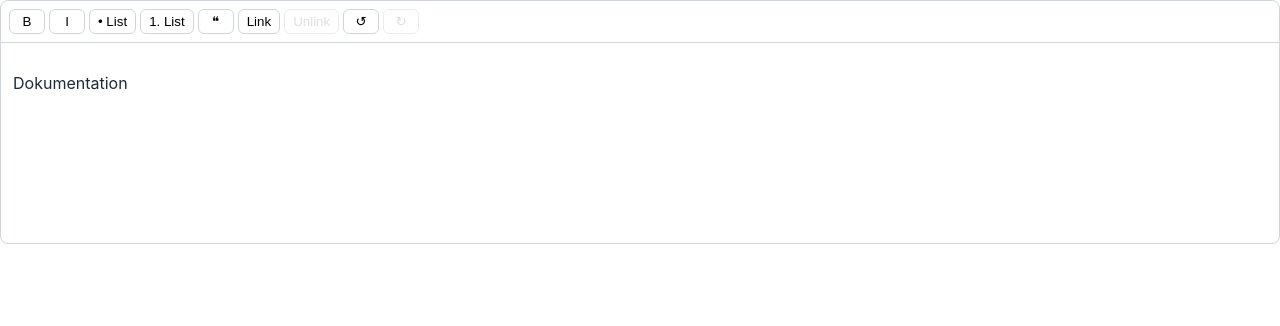
ComposerEditor › rejects unsafe links entered through the link form
The image size is (1280, 326).
Step 1. Click the button named "Add or edit link" → (259, 22), box [238, 9, 280, 34]
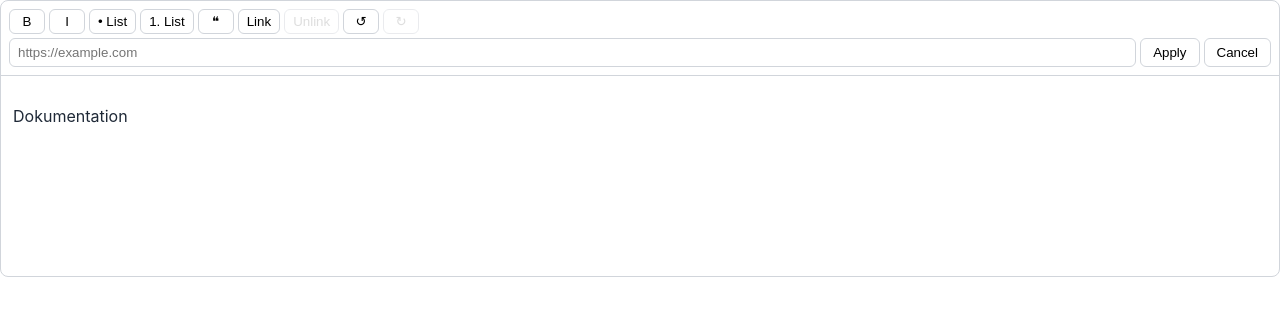
Step 2. Type "javascript:alert(1)" into the field named "Link URL" → (573, 52), box [9, 38, 1136, 67]
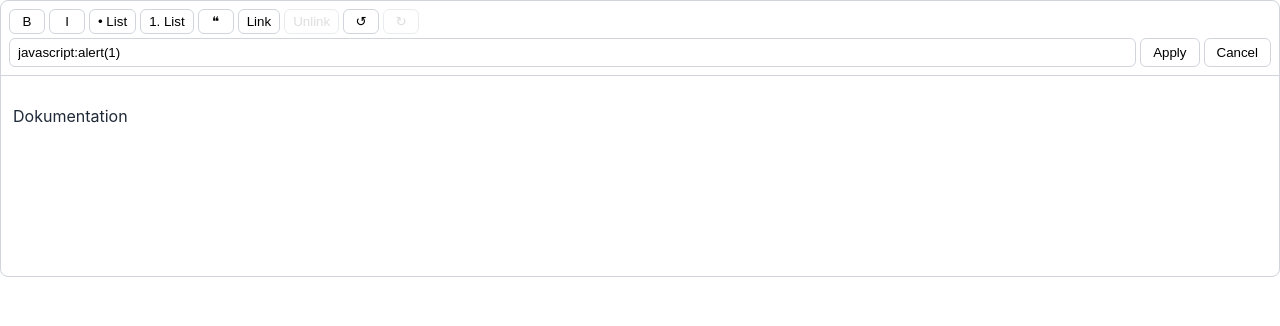
Step 3. Click the button named "Apply link" → (1170, 52), box [1140, 38, 1200, 67]
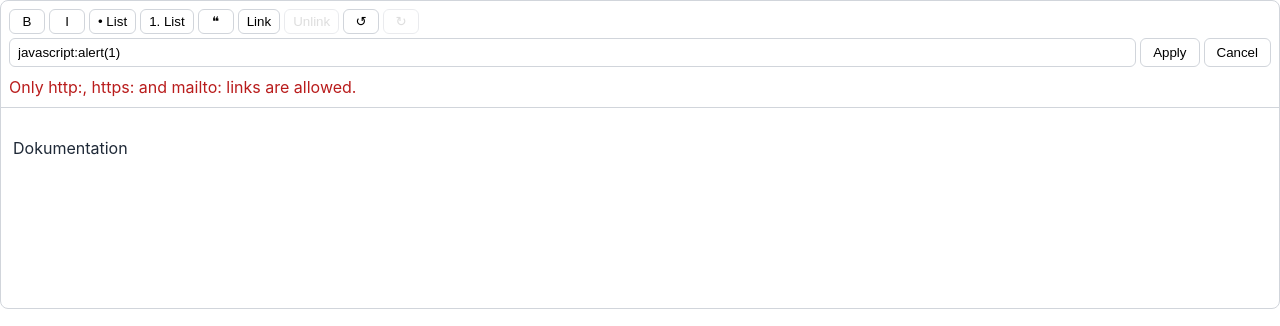
Expected: the message reads "Only http:, https: and mailto: links are allowed.", [9, 77, 356, 97]
